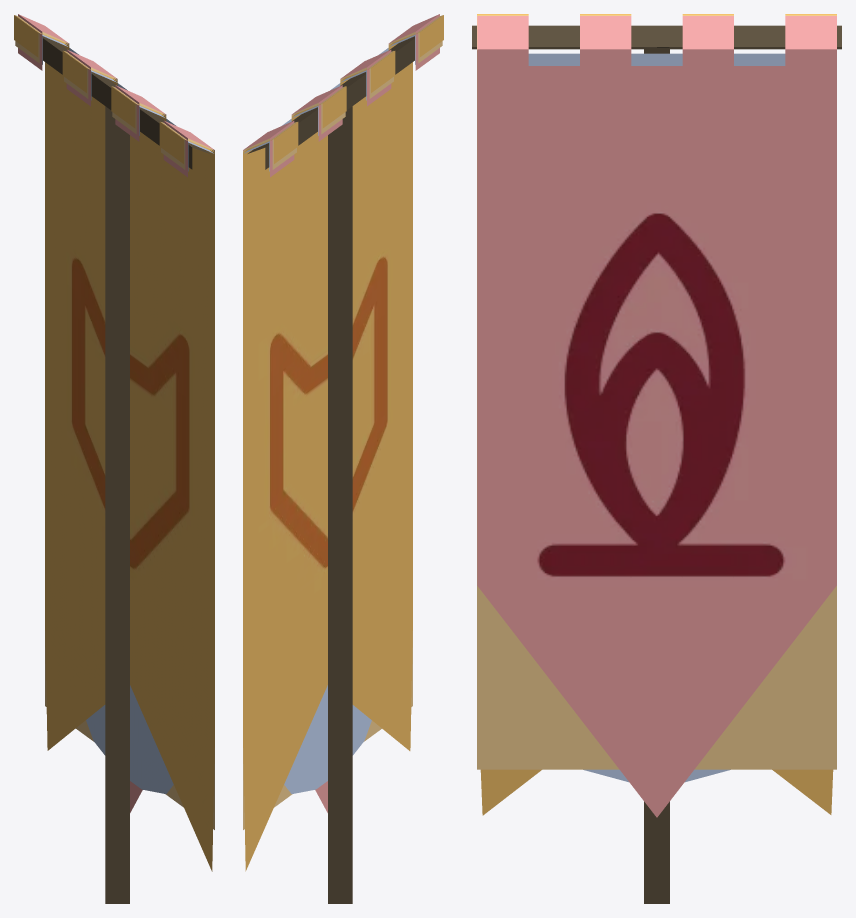
The model's file is flags_1-transformed.glb.
3 views of the same model, side by side, from view 1: azimuth 30°, elevation 25°; view 2: azimuth 150°, elevation 25°; view 3: azimuth 270°, elevation 25° (orthographic). The views are drawn at different scales.
Visible parts, largest first — view 1: fox, enlightenment, anger, power; view 2: fox, enlightenment, anger, power; view 3: anger, power, fox, enlightenment.
Boxes of the visible parts, x1,y1,x2,y2 form: fox: [14, 15, 214, 903]; enlightenment: [42, 34, 213, 793]; anger: [18, 14, 214, 812]; power: [15, 15, 214, 829]; fox: [243, 15, 443, 903]; enlightenment: [244, 34, 415, 793]; anger: [243, 14, 439, 812]; power: [243, 15, 442, 829]; anger: [477, 16, 836, 817]; power: [477, 15, 836, 769]; fox: [472, 14, 841, 903]; enlightenment: [528, 53, 785, 782].
Bounding box in the file's own units: 0.21 × 5.38 × 2.06.
Materials: 17 (16 with a texture image).
